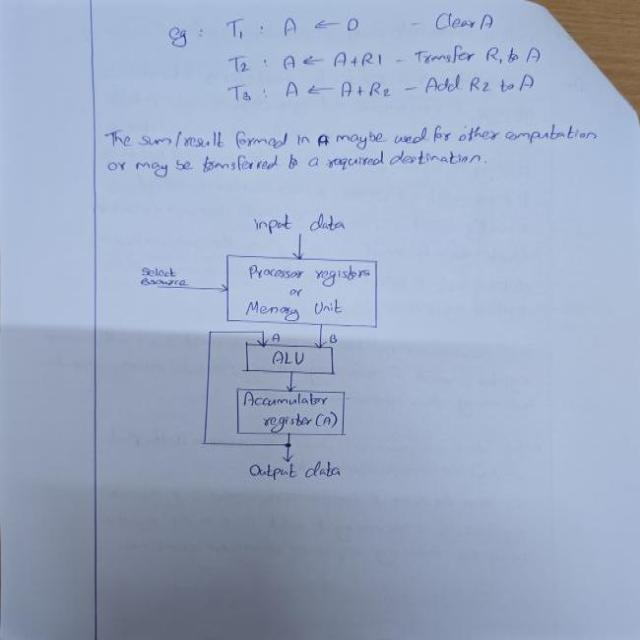Figure Detection - v3 Dataset Version2: (120, 194, 424, 500)
